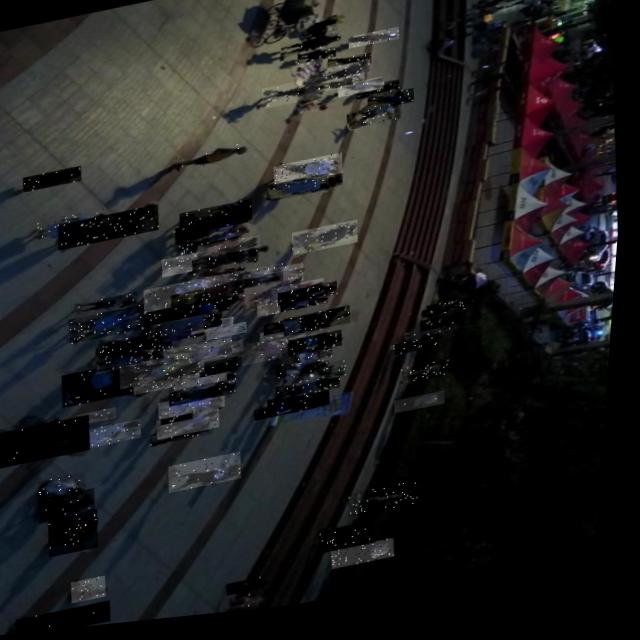Person: (0, 417, 98, 471), (58, 208, 163, 252), (64, 361, 156, 410), (97, 333, 179, 377), (123, 354, 211, 393), (71, 306, 155, 346), (146, 279, 231, 318), (23, 603, 120, 635), (173, 457, 249, 497), (53, 511, 108, 560), (147, 300, 234, 330), (180, 204, 256, 238), (70, 422, 148, 455), (354, 490, 426, 525), (292, 227, 361, 263), (172, 286, 249, 318), (274, 159, 346, 193), (175, 219, 251, 251), (172, 147, 251, 177), (137, 365, 206, 399), (145, 317, 227, 345), (167, 342, 238, 374), (244, 339, 312, 372), (38, 211, 110, 242), (164, 250, 236, 281), (161, 412, 226, 444), (287, 313, 356, 343), (44, 490, 103, 525), (262, 83, 325, 115), (325, 528, 384, 562), (162, 395, 231, 424), (278, 37, 342, 68), (194, 252, 262, 281), (338, 547, 403, 577), (246, 284, 307, 315), (173, 384, 242, 411), (245, 269, 308, 298), (271, 395, 336, 423), (280, 381, 347, 408), (268, 180, 332, 208), (288, 367, 352, 395), (263, 326, 334, 351), (105, 336, 172, 362), (43, 474, 93, 508), (199, 241, 264, 266), (346, 110, 404, 138), (24, 167, 84, 193), (183, 373, 245, 398), (77, 295, 141, 319), (183, 361, 243, 386), (155, 427, 219, 450), (291, 337, 347, 363), (181, 237, 244, 260), (259, 405, 323, 427), (281, 289, 342, 312), (176, 371, 232, 396), (267, 320, 330, 342), (225, 278, 288, 300), (260, 297, 313, 323), (225, 269, 287, 290), (286, 351, 338, 376), (406, 369, 456, 394), (275, 285, 329, 308), (280, 363, 335, 385), (321, 67, 372, 90), (399, 401, 451, 423), (195, 345, 249, 366), (230, 595, 279, 618), (367, 96, 415, 119), (347, 36, 399, 57), (294, 180, 346, 201), (201, 268, 249, 290), (78, 579, 115, 606), (354, 87, 400, 108), (408, 330, 456, 350), (397, 345, 443, 365), (338, 85, 384, 105), (326, 60, 372, 80), (300, 25, 338, 48), (430, 307, 480, 324), (283, 302, 333, 319), (423, 323, 467, 342), (163, 330, 209, 348), (79, 410, 122, 429), (211, 228, 254, 247), (210, 327, 252, 346), (234, 583, 274, 602), (194, 322, 238, 339), (426, 312, 470, 328), (297, 54, 337, 71), (69, 531, 102, 549), (165, 412, 199, 429), (321, 84, 354, 99), (298, 90, 327, 102), (310, 289, 333, 303), (347, 80, 366, 96), (334, 238, 354, 252)
